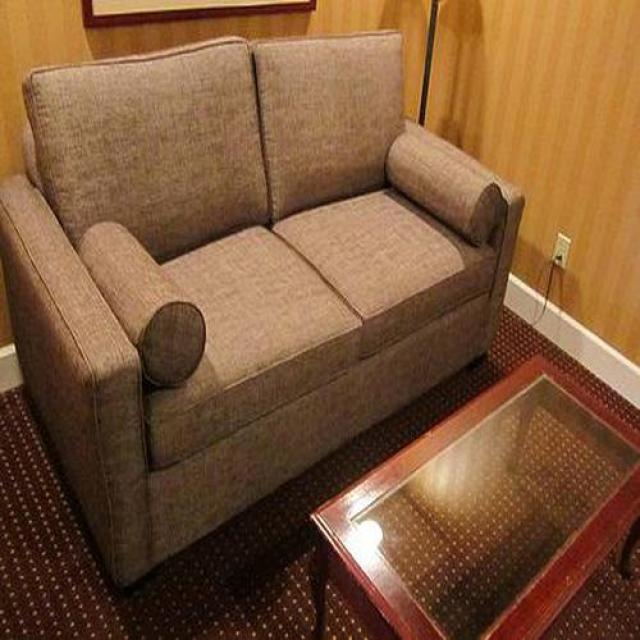sofa: (8, 29, 522, 594)
